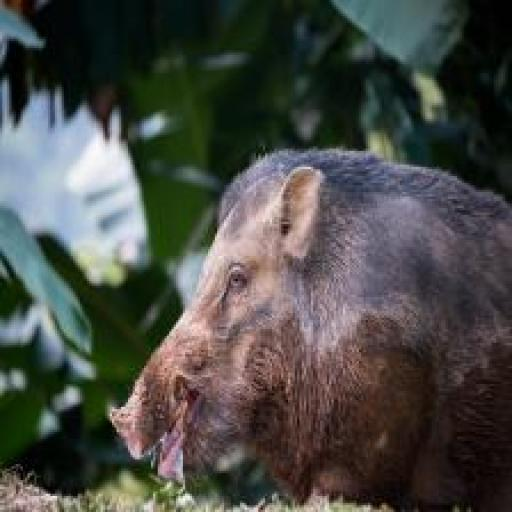Pig: (107, 146, 512, 510)
